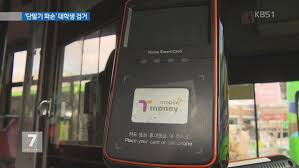terminal: (102, 1, 236, 167)
